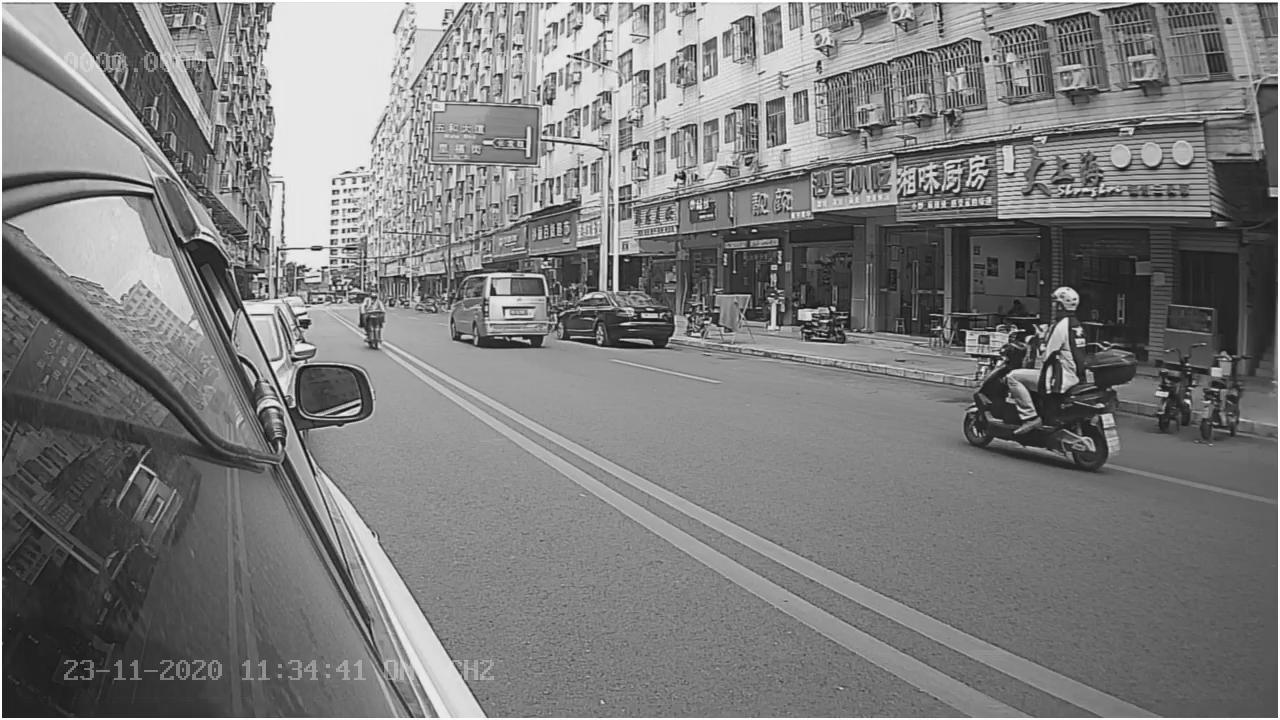person: (1015, 279, 1090, 363)
